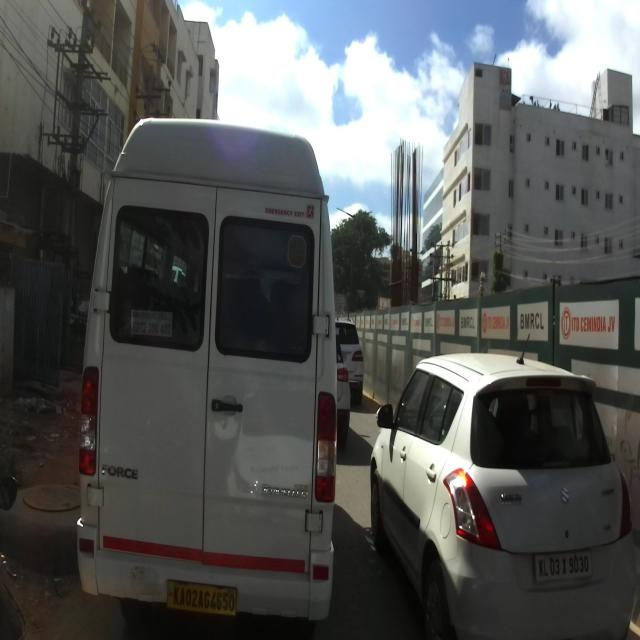Car_Maruti-Suzuki: (370, 333, 636, 640)
mini-bus: (76, 118, 337, 640)
